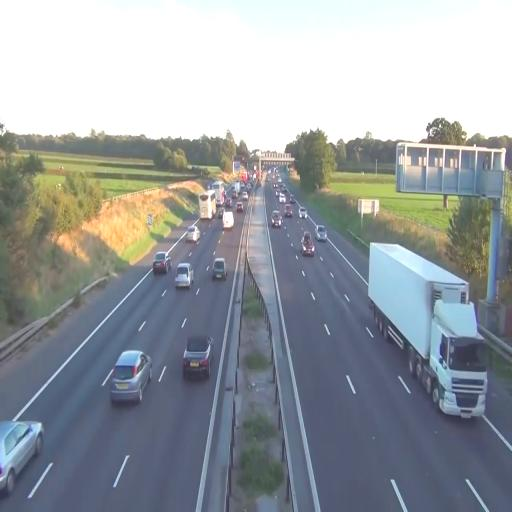vehicle: (367, 240, 489, 419), (0, 420, 44, 498), (110, 349, 152, 405), (182, 334, 213, 380), (175, 262, 193, 288), (152, 252, 170, 276), (211, 257, 227, 281), (187, 223, 201, 245), (302, 233, 314, 257), (271, 210, 283, 230), (222, 210, 234, 229), (316, 225, 327, 240)
